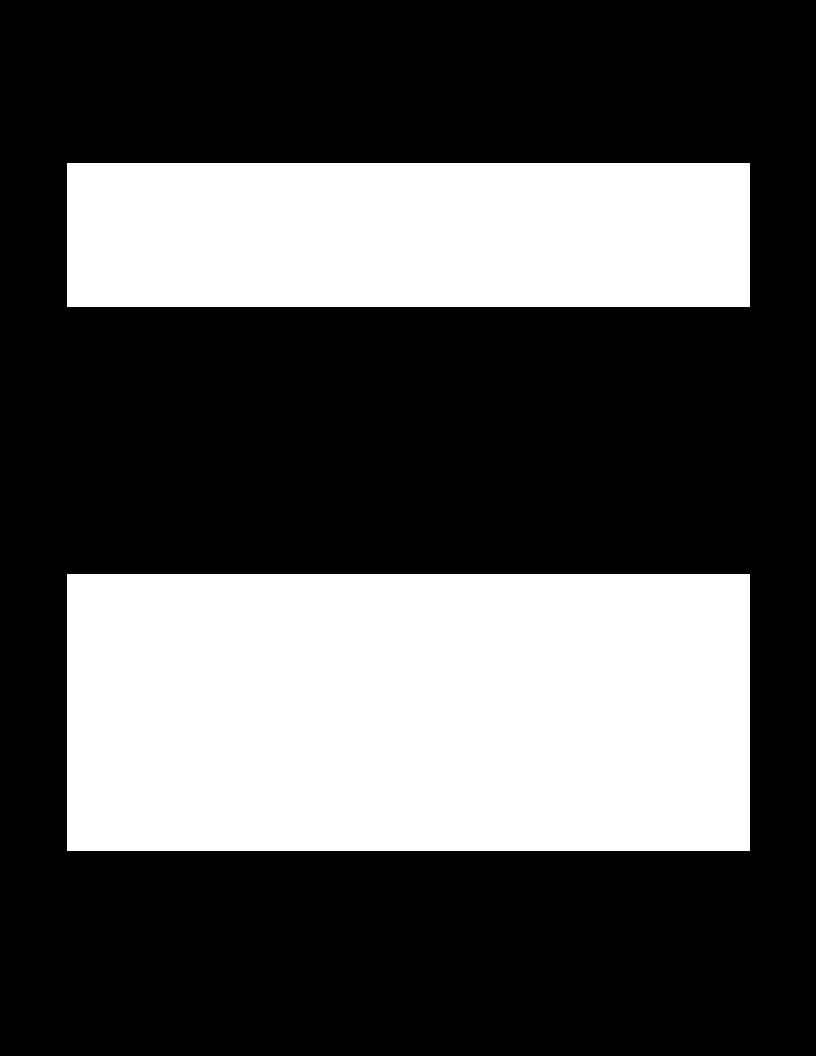table: (67, 574, 749, 850), (67, 163, 749, 306)
